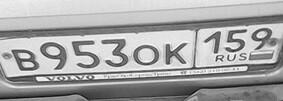license-plateSW: (0, 26, 281, 74)
